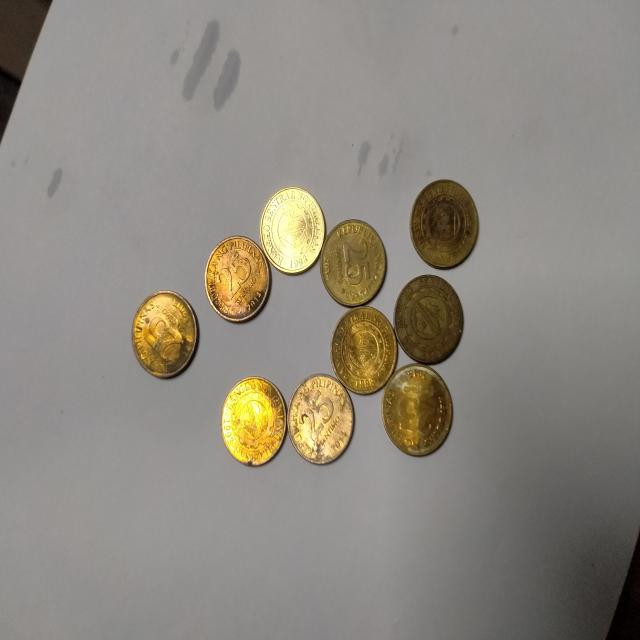25Cent_Old_Front: (135, 298, 189, 372), (207, 240, 260, 308), (333, 230, 377, 294), (297, 392, 338, 448)
